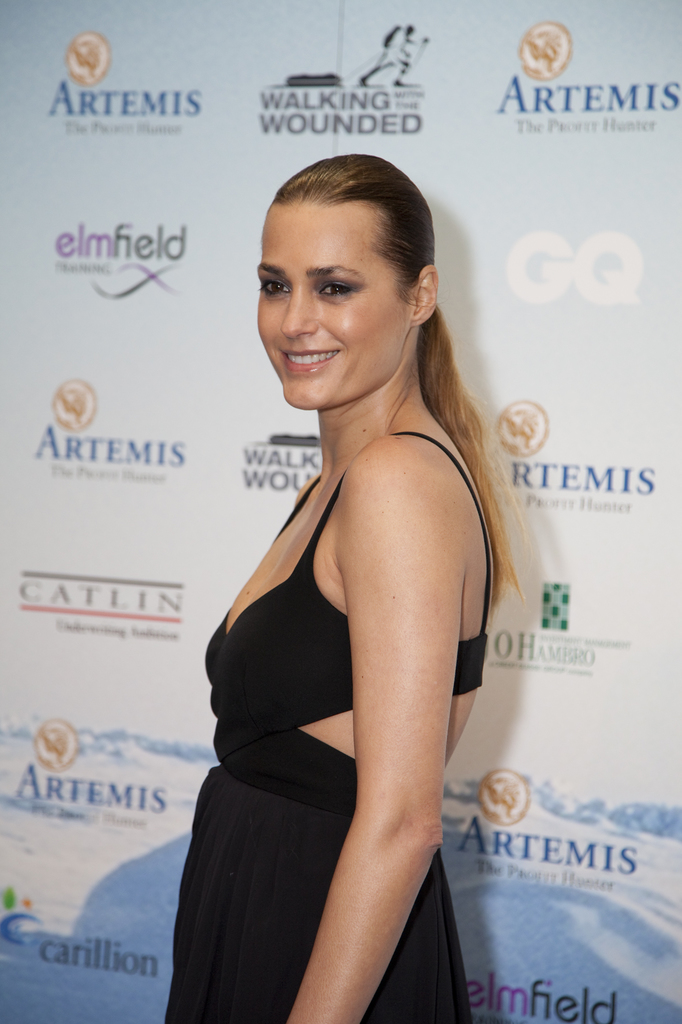Person: (163, 153, 534, 1024)
